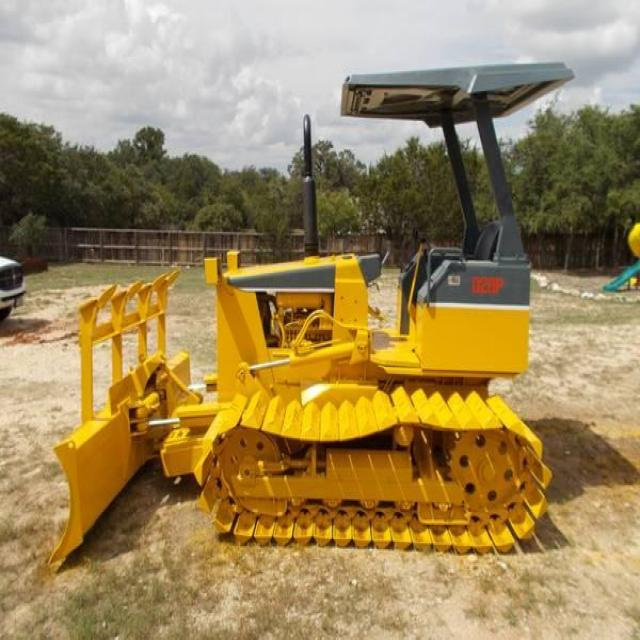Bulldozer: (51, 47, 569, 572)
